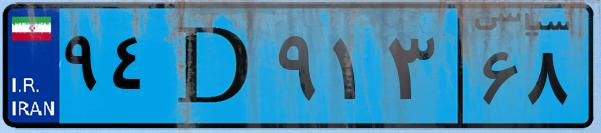1: (330, 28, 385, 110)
3: (385, 28, 445, 110)
4: (110, 28, 158, 98)
6: (475, 38, 525, 113)
8: (525, 38, 570, 115)
9: (270, 28, 330, 110), (57, 26, 110, 100)
D: (158, 12, 270, 120)
